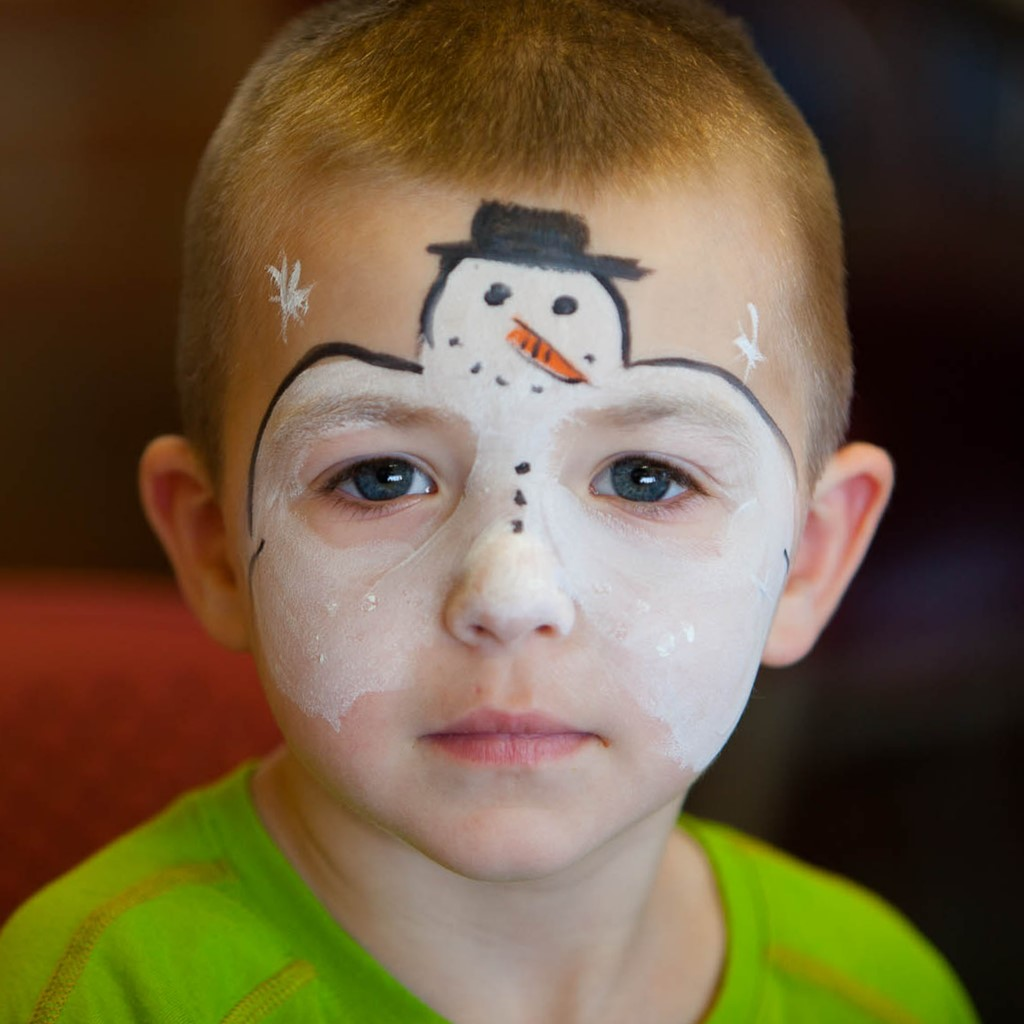sin_mascara: (207, 72, 779, 854)
